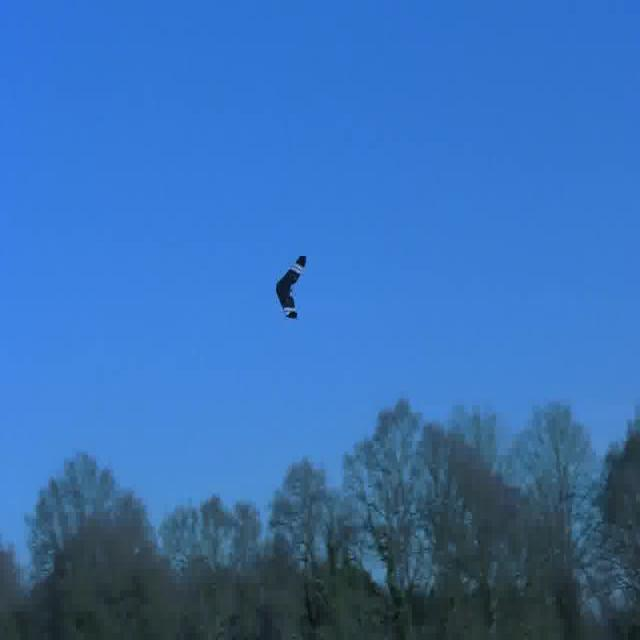iha: (271, 279, 315, 300)
